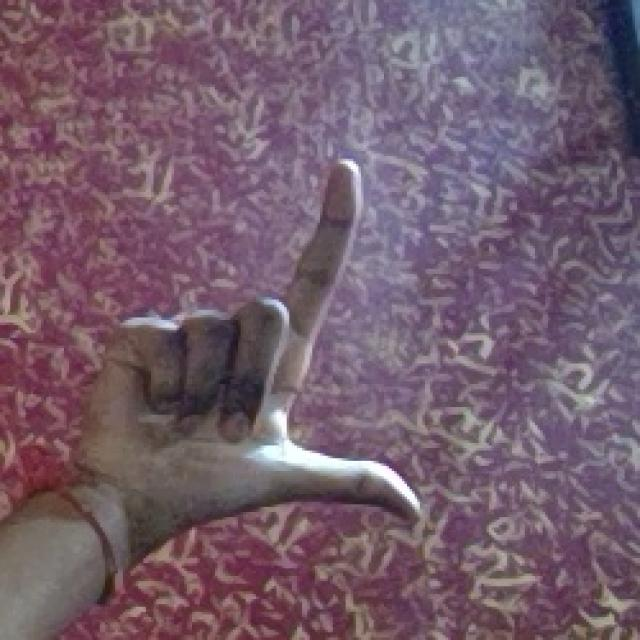Alphabet-L: (75, 134, 422, 586)
